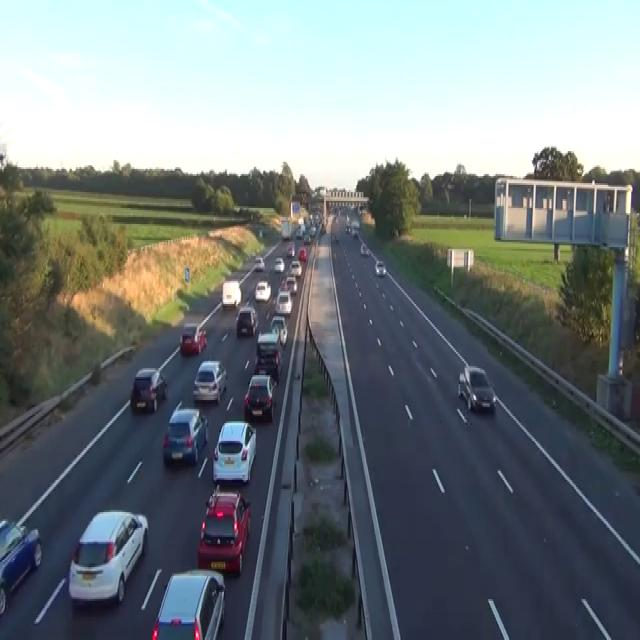Car: (68, 508, 148, 606), (151, 567, 225, 638), (197, 487, 251, 574), (0, 517, 42, 615), (212, 419, 256, 484), (162, 402, 208, 464), (458, 364, 496, 412), (130, 367, 167, 412), (192, 359, 227, 404), (244, 374, 276, 422), (253, 345, 282, 380), (179, 322, 207, 354), (235, 306, 258, 336), (221, 279, 241, 308), (256, 331, 281, 354), (270, 314, 287, 346), (275, 290, 292, 314), (254, 279, 271, 301), (280, 274, 297, 295), (289, 260, 302, 278), (0, 142, 7, 171), (374, 260, 386, 276), (273, 256, 284, 272), (253, 256, 265, 270), (360, 242, 369, 256), (286, 242, 295, 256), (298, 247, 306, 261), (279, 278, 287, 292), (295, 226, 303, 238), (351, 218, 360, 228), (303, 233, 311, 243), (344, 224, 351, 235), (331, 233, 339, 242), (351, 228, 358, 238), (309, 226, 316, 236), (258, 228, 266, 236), (320, 224, 326, 233), (298, 217, 304, 226), (259, 228, 263, 236)
Truck: (280, 219, 291, 240)
